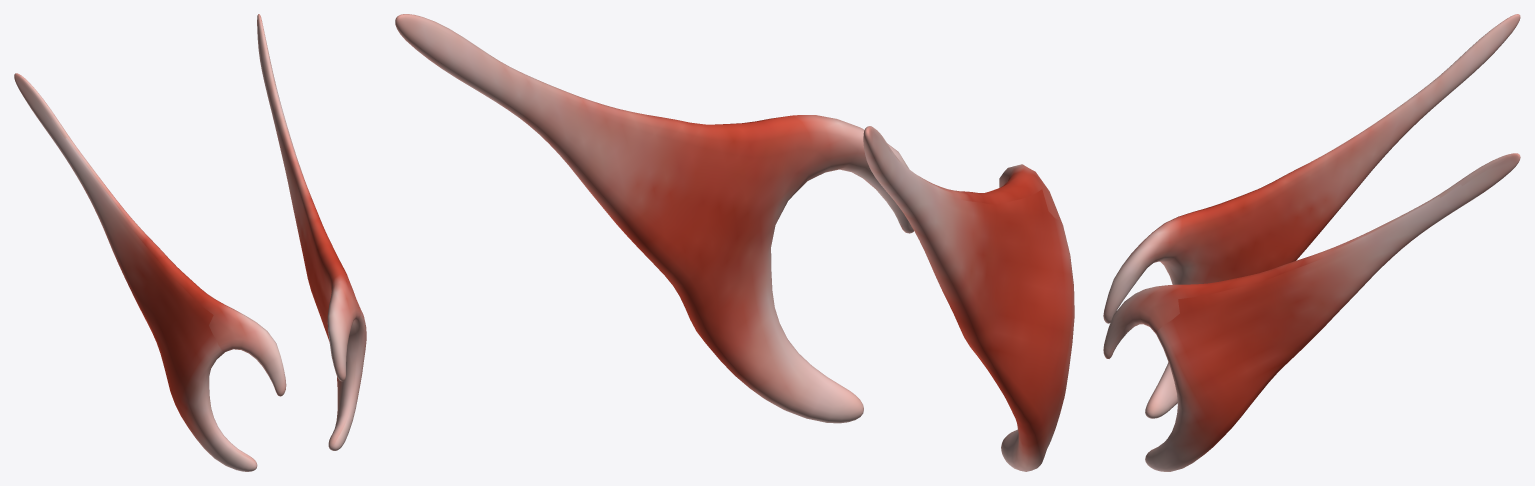
The model's file is Dilator Naris Lateralis.fbx.
3 views of the same model, side by side, from view 1: azimuth 30°, elevation 25°; view 2: azimuth 150°, elevation 25°; view 3: azimuth 270°, elevation 25° (orthographic). The views are drawn at different scales.
Visible parts, largest first — view 1: Dilator Naris Lateralis; view 2: Dilator Naris Lateralis; view 3: Dilator Naris Lateralis.
Part boxes in pixels (bbox=[...]): Dilator Naris Lateralis: bbox=[14, 14, 366, 471]; Dilator Naris Lateralis: bbox=[395, 14, 1074, 471]; Dilator Naris Lateralis: bbox=[1103, 14, 1520, 471].
Bounding box in the file's own units: 15.22 × 17.99 × 18.93.
